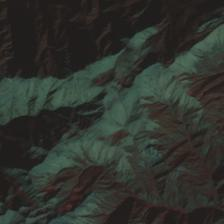landslides: (164, 140, 189, 160), (199, 81, 223, 100), (95, 194, 121, 208), (0, 40, 15, 54), (177, 167, 196, 174), (98, 183, 114, 190), (154, 142, 176, 147)
